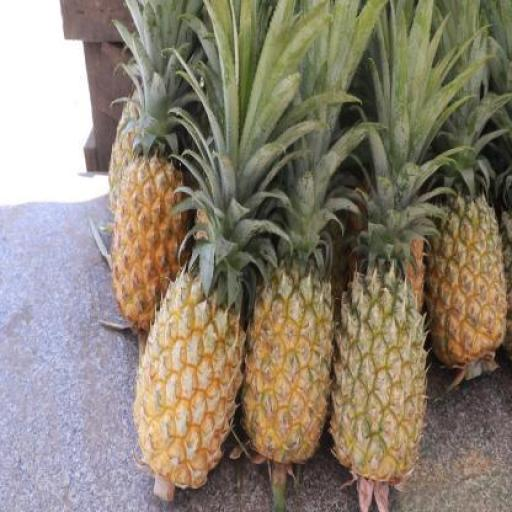------------------------------: (333, 271, 423, 476)
Pineapple - v8 v1: (130, 275, 238, 487), (239, 267, 330, 463), (112, 155, 188, 342), (430, 199, 505, 367)
